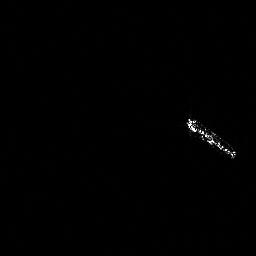ship: (186, 118, 236, 161)
